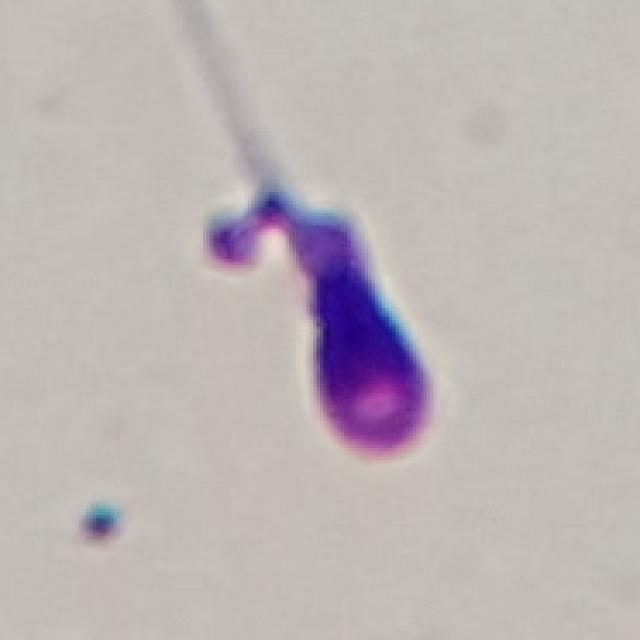abnormal sperm: (196, 0, 468, 436)
